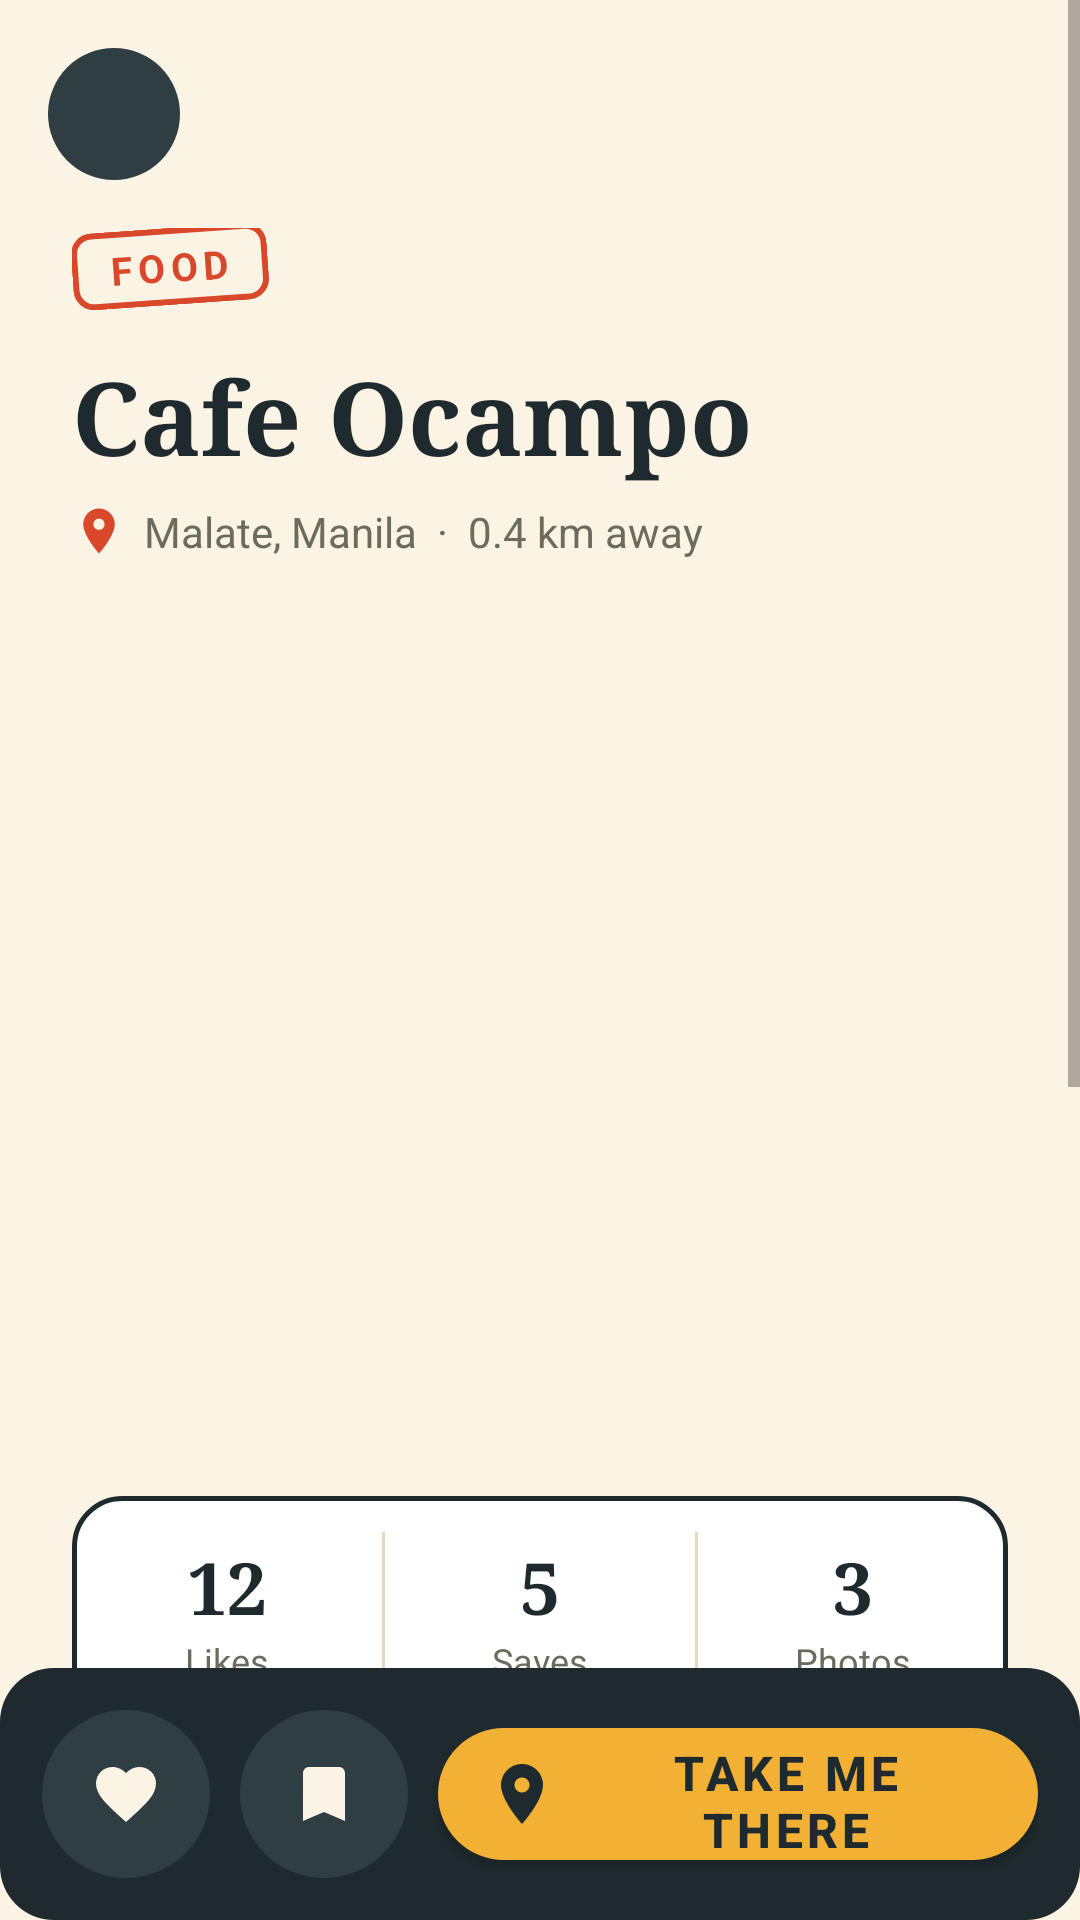

Where icons sit on this 1080 × 1920 app screen, as region(x1, y1, x2, y2):
pin: region(83, 508, 115, 553)
